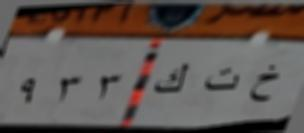3: (54, 72, 85, 106), (97, 66, 125, 102)
9: (17, 74, 38, 108)
kaaf: (153, 56, 190, 103)
khaa: (246, 60, 281, 108)
taa: (202, 65, 243, 98)
